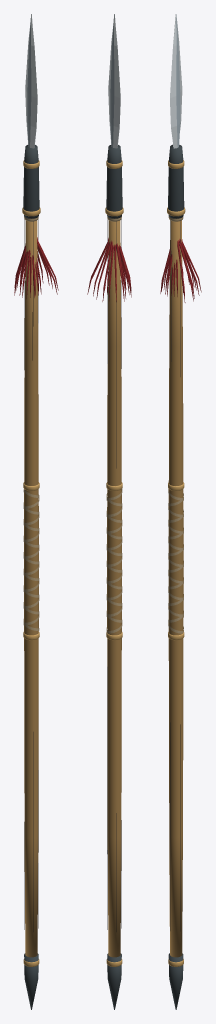
File: weapon_ming_qiang.glb
3 views of the same model, side by side, from view 1: azimuth 30°, elevation 25°; view 2: azimuth 210°, elevation 25°; view 3: azimuth 330°, elevation 25° (orthographic).
Parts seen in each view (by area): view 1: Authored_ming_qiang; view 2: Authored_ming_qiang; view 3: Authored_ming_qiang.
Part boxes in pixels (x1,y1,x2,y2): Authored_ming_qiang: [14, 14, 58, 1009]; Authored_ming_qiang: [87, 14, 131, 1009]; Authored_ming_qiang: [160, 14, 201, 1009].
Size of the model in its own units: 0.1007 by 2.53 by 0.0931.
